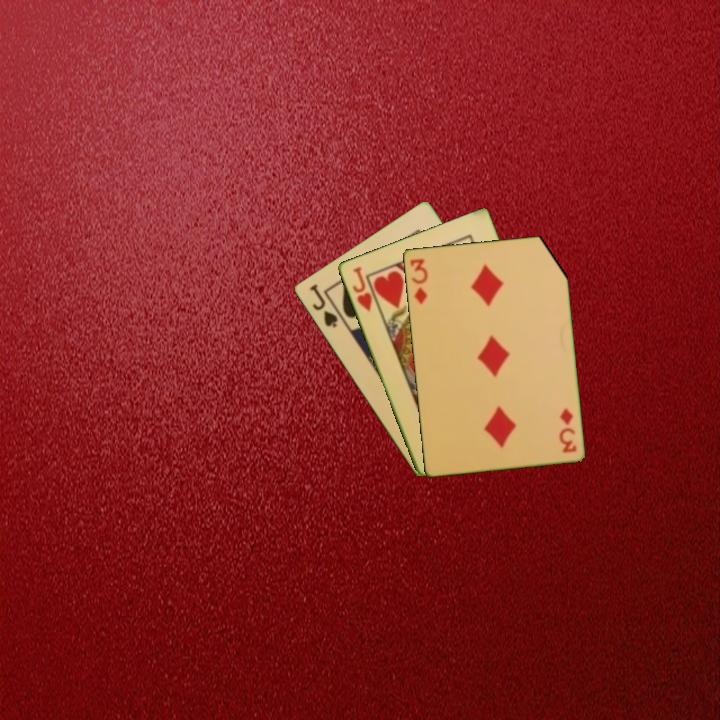3d: (406, 255, 430, 306), (556, 405, 579, 455)
Jh: (349, 263, 375, 314)
Js: (306, 280, 340, 331)
